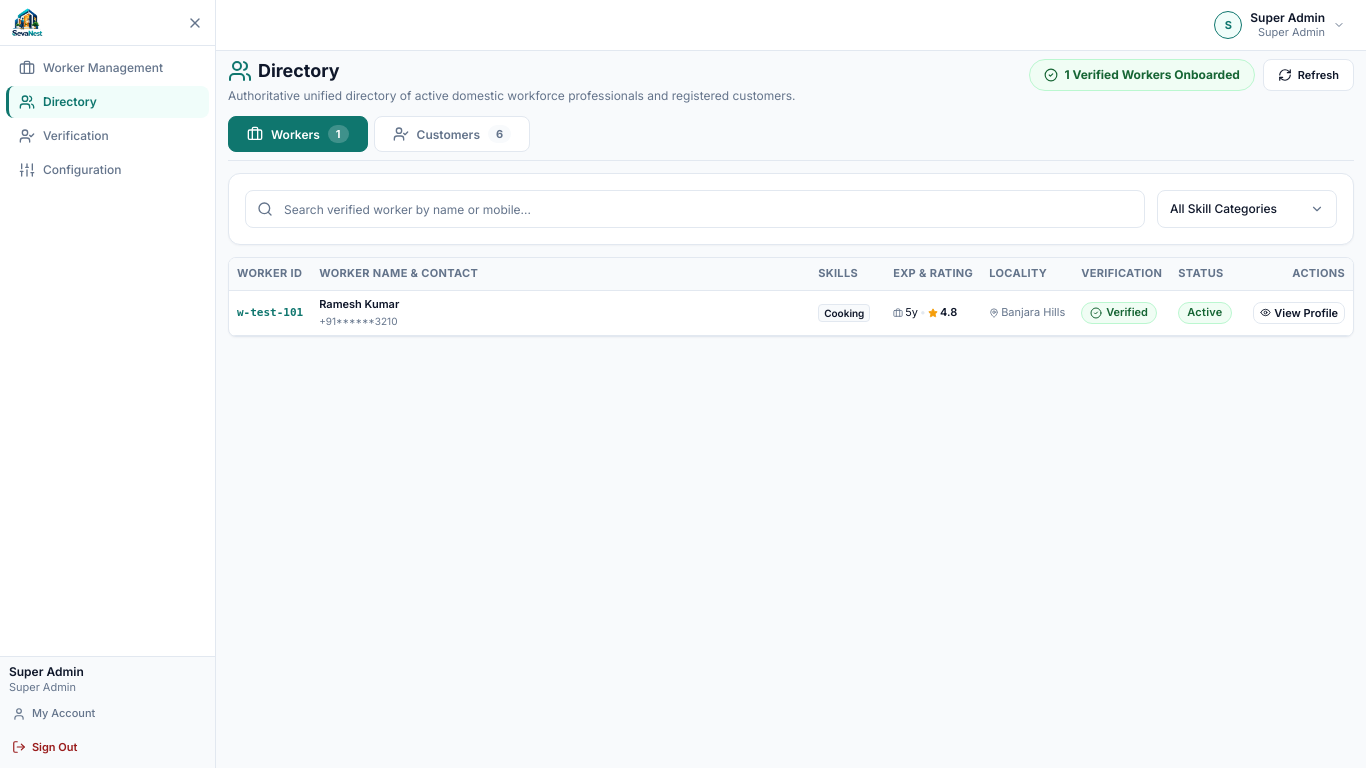
Test: Worker Profile Navigation & History Preservation › 3. Directory → Worker Profile → Documents Tab → Document View → Back returns to the Documents tab
// Open Worker Profile
What coordinates should you click on to do the following:
click the button with aria-label "View Profile"
I would click on:
 (791, 313)
Its box is [229,291,1353,335].
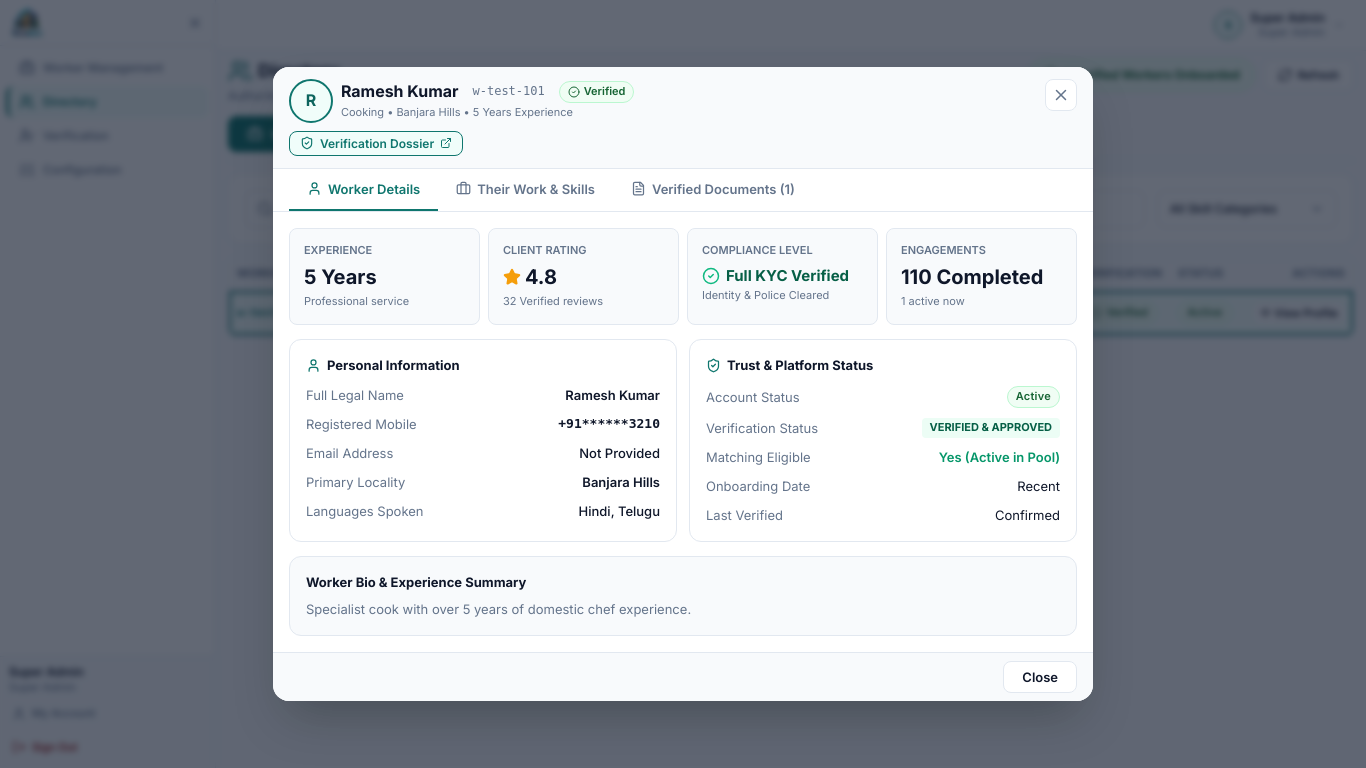
Check: the dialog is shown
// Switch to Verified Documents tab
What coordinates should you click on to do the following:
click the tab "Verified Documents (1)"
I would click on:
 (713, 190)
Its box is [613,169,813,211].
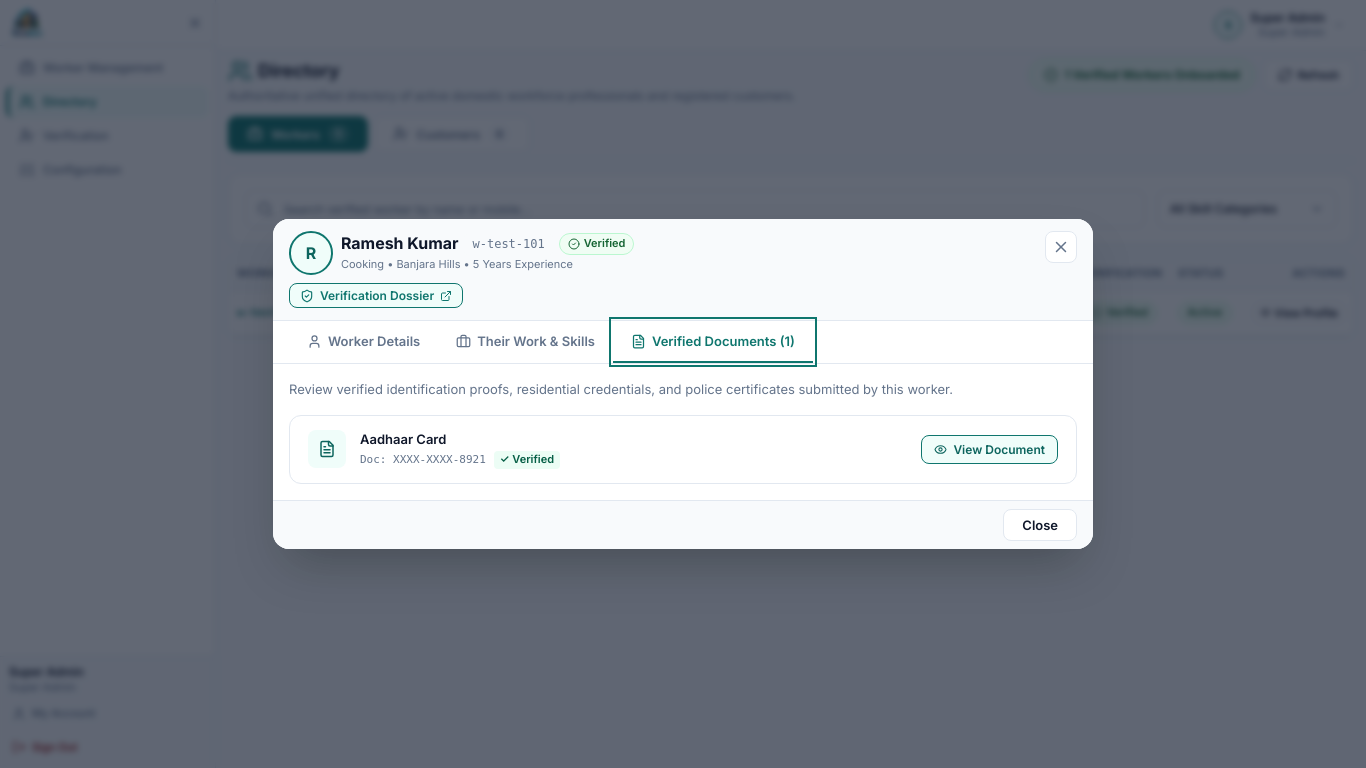
Check: the text "Aadhaar Card" is shown, box [360,431,446,447]
// Click "View Document" to inspect document
What coordinates should you click on to do the following:
click the button "View Document"
I would click on:
 (990, 449)
Its box is [921,435,1058,464].
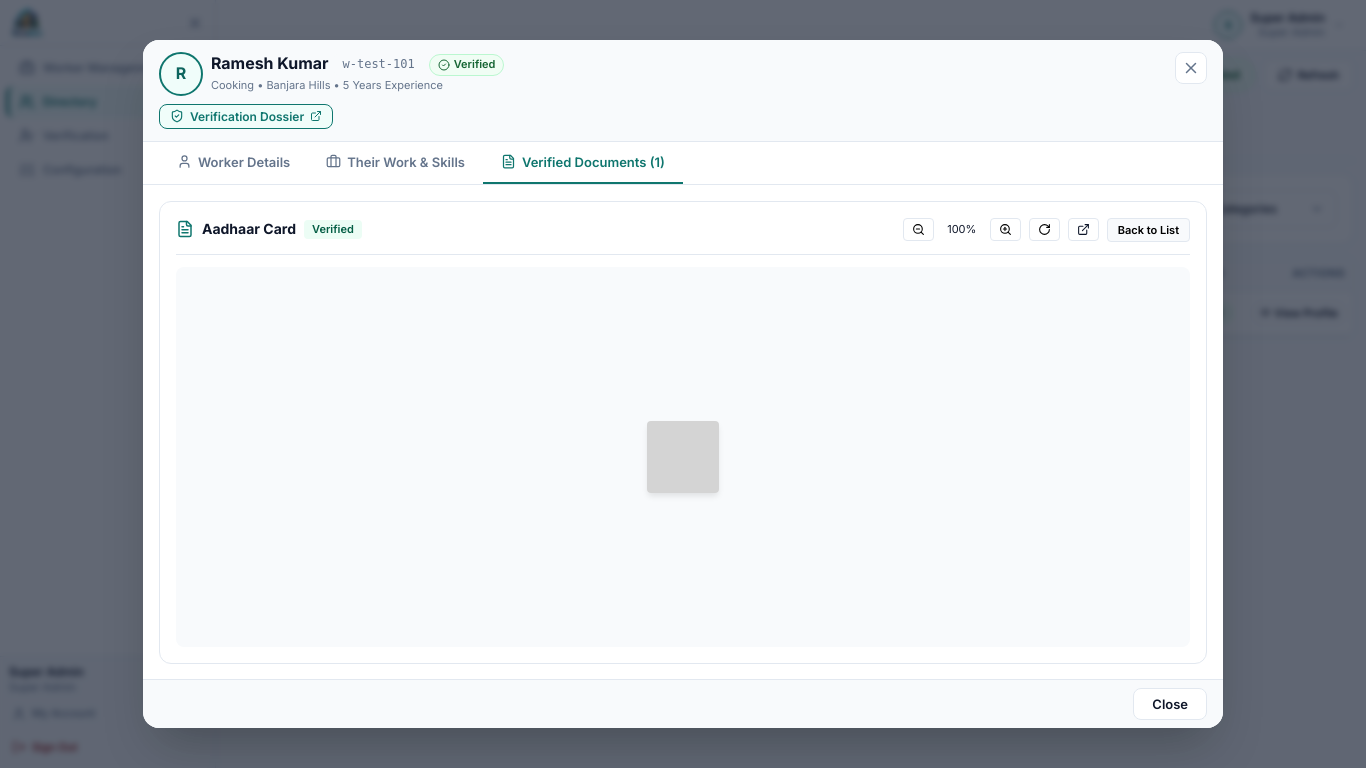
// Click "Back to List" application button
What coordinates should you click on to do the following:
click the button "Back to List"
I would click on:
 (1148, 230)
Its box is [1107,218,1190,242].
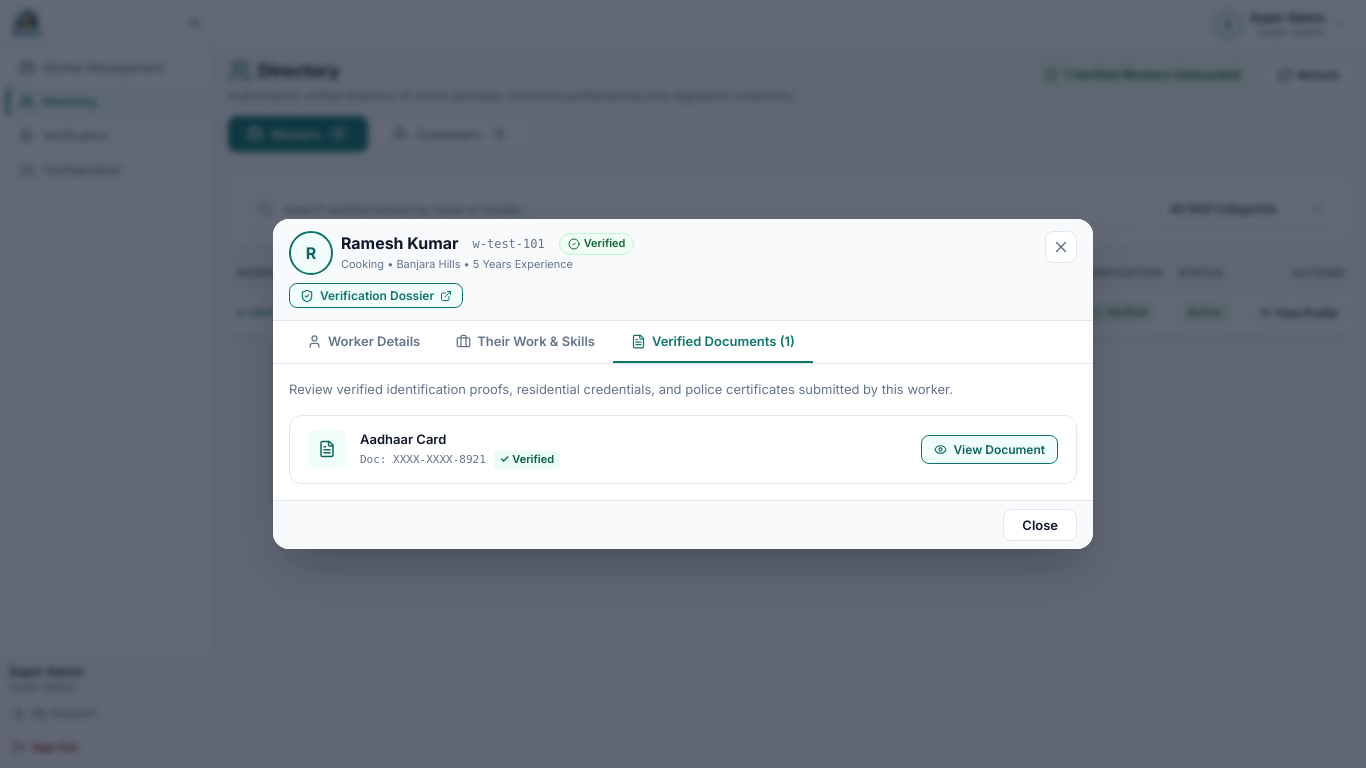
Check: the text "Aadhaar Card" is shown, box [360,431,446,447]
Check: the picture with test id "kyc-document-image" is gone
